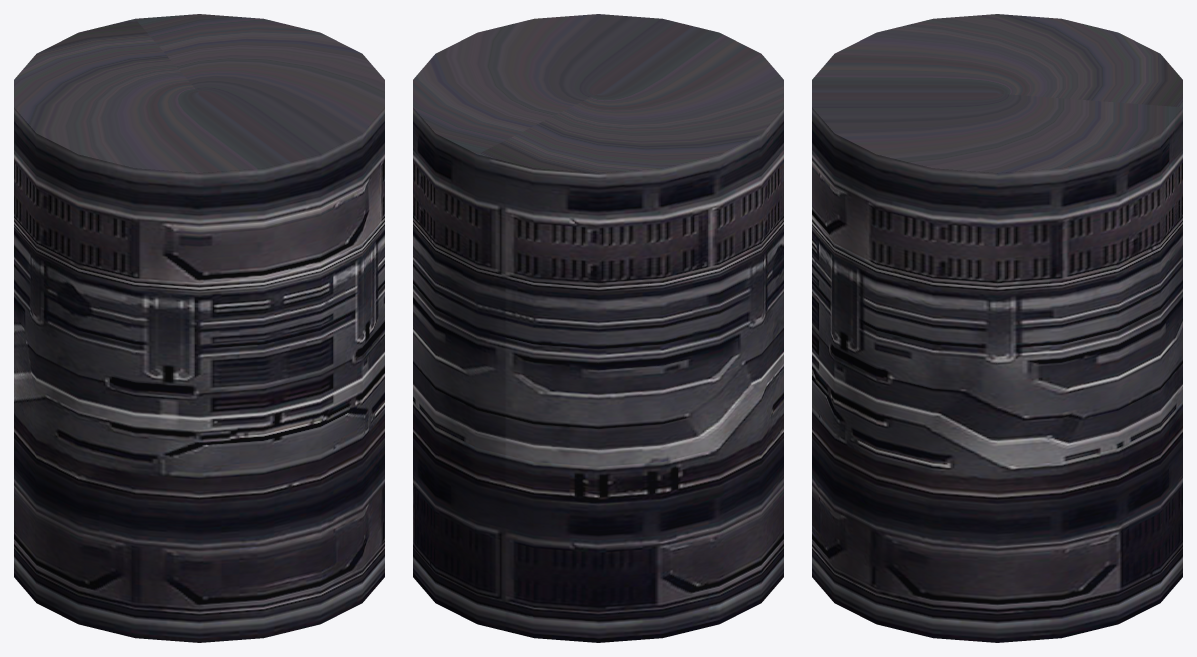
Rendered from CubeBaseFrontColumnN3.fbx.
3 renders of one model, left to right at view 1: azimuth 30°, elevation 25°; view 2: azimuth 150°, elevation 25°; view 3: azimuth 270°, elevation 25°, orthographic.
Visible parts, largest first — view 1: Cylinder01; view 2: Cylinder01; view 3: Cylinder01.
Boxes of the visible parts, x1,y1,x2,y2 form: Cylinder01: (14,14,384,642); Cylinder01: (413,14,783,642); Cylinder01: (812,14,1182,642).
Bounding box in the file's own units: 1.22 × 1.68 × 1.2.
1 material, 1 textured.
